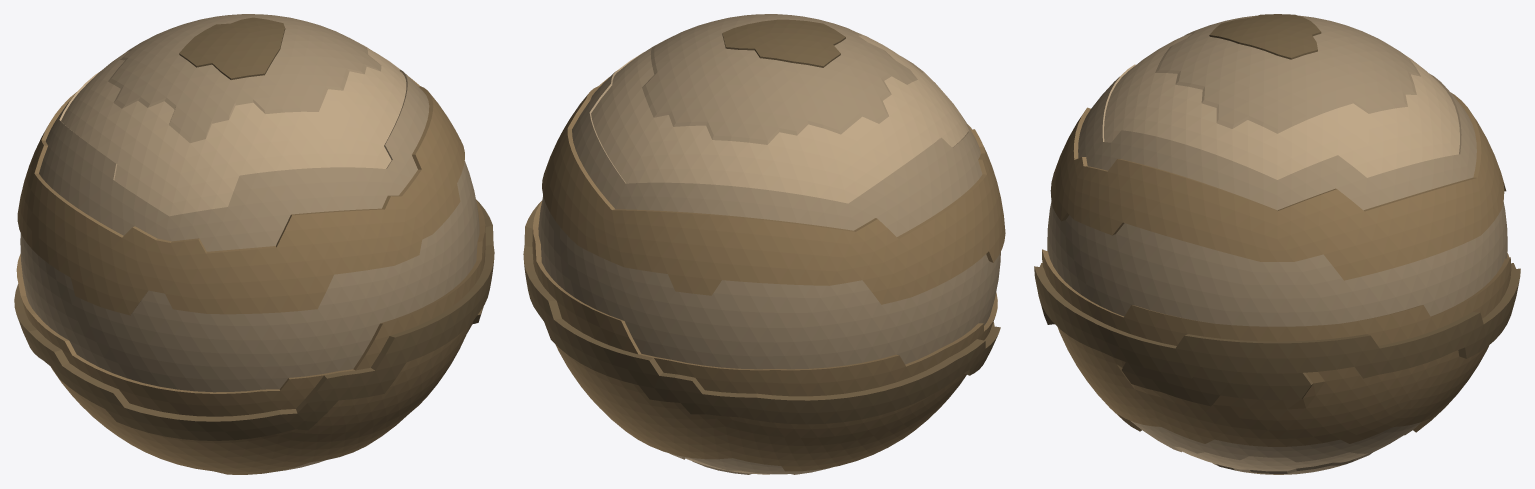
3 renders of one model, left to right at view 1: azimuth 30°, elevation 25°; view 2: azimuth 150°, elevation 25°; view 3: azimuth 270°, elevation 25°, orthographic.
Visible parts, largest first — view 1: Icosphere; view 2: Icosphere; view 3: Icosphere.
Part boxes in pixels (left/top/right/bottom): Icosphere: left=14, top=14, right=494, bottom=474; Icosphere: left=523, top=14, right=1005, bottom=474; Icosphere: left=1034, top=14, right=1520, bottom=474.
Size of the model in its own units: 84.57 by 81.1 by 85.23.
